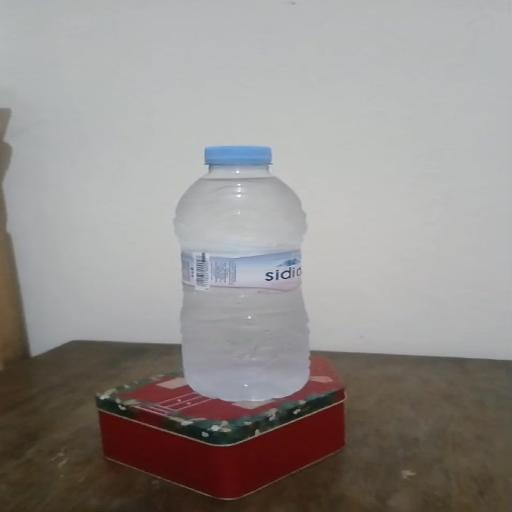bouteille conformite: (169, 131, 316, 406)
